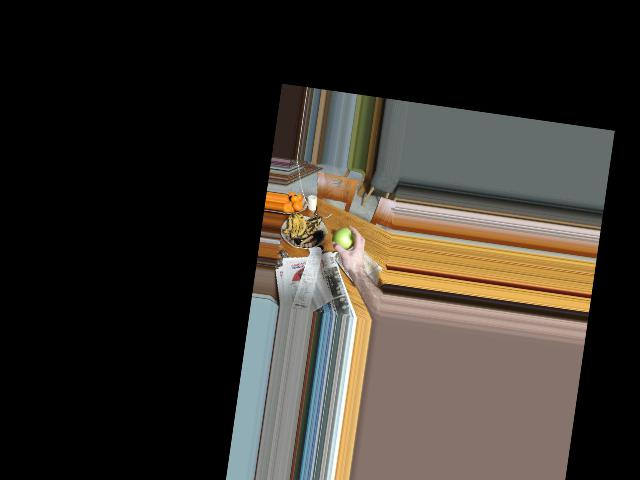apple: (331, 224, 358, 253)
